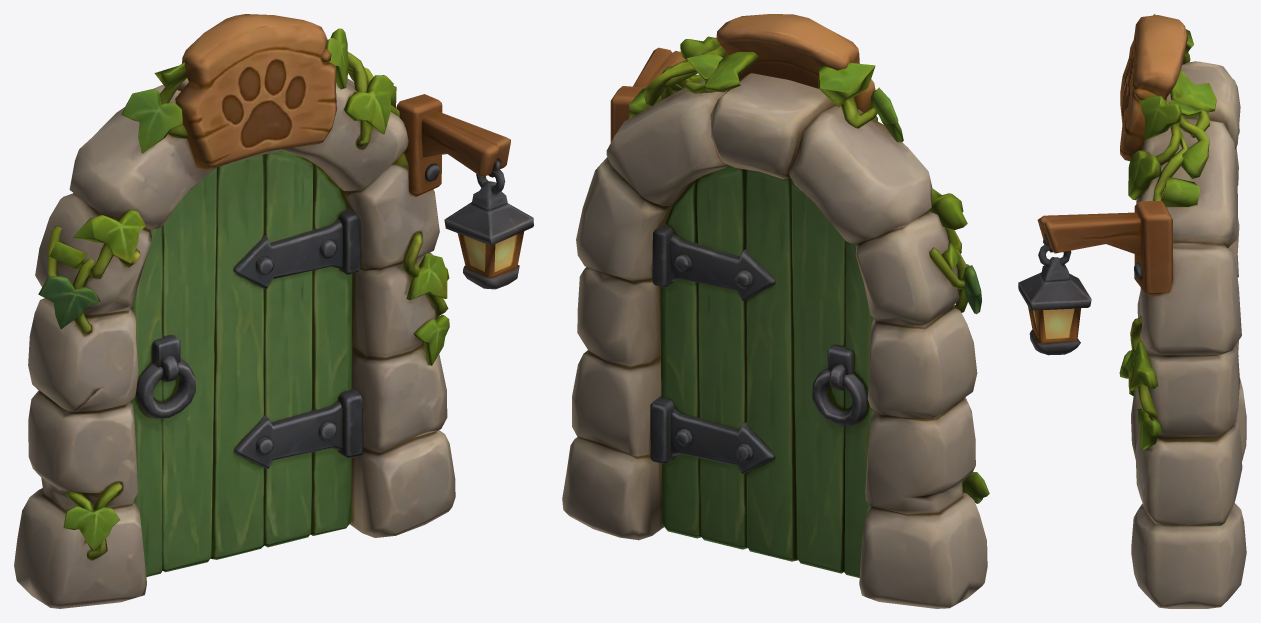
File: atelier_porte_enclos.glb
The picture shows the model from 3 angles, left to right: view 1: azimuth 30°, elevation 25°; view 2: azimuth 150°, elevation 25°; view 3: azimuth 270°, elevation 25°; orthographic projection. The views are drawn at different scales.
Visible parts, largest first — view 1: geometry_0; view 2: geometry_0; view 3: geometry_0.
Part boxes in pixels (x1,y1,x2,y2): geometry_0: (14,14,533,608); geometry_0: (562,14,989,608); geometry_0: (1018,14,1246,608).
Bounding box in the file's own units: 0.7739 × 0.9531 × 0.3993.
Materials: 1 (1 with a texture image).
